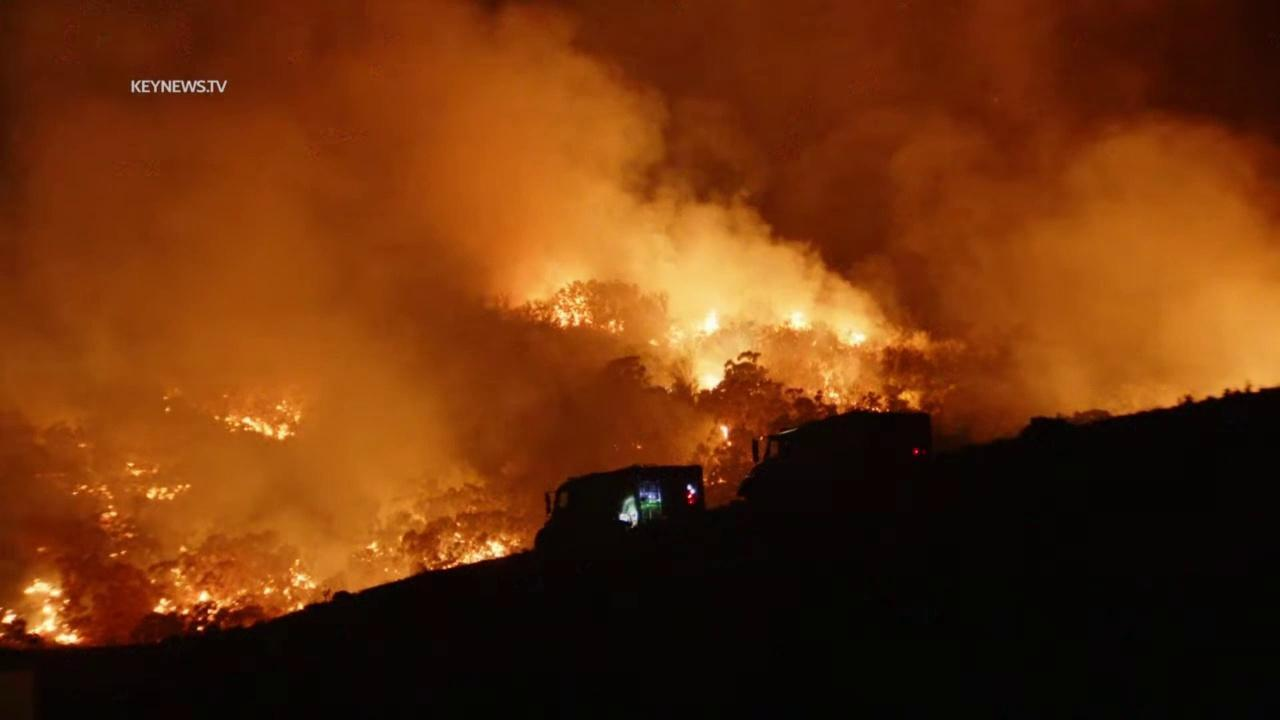fire: (150, 558, 320, 633), (0, 571, 87, 651), (683, 304, 734, 396), (212, 395, 306, 444), (73, 481, 136, 539), (433, 531, 521, 571), (123, 457, 192, 502), (550, 285, 595, 331), (599, 317, 628, 335), (788, 310, 809, 332), (847, 329, 868, 350), (717, 425, 735, 447), (366, 539, 386, 558), (702, 476, 728, 487), (109, 549, 129, 558), (827, 390, 841, 401), (177, 543, 189, 554), (76, 442, 88, 451), (635, 444, 644, 452)
smoke: (0, 0, 1280, 656)
